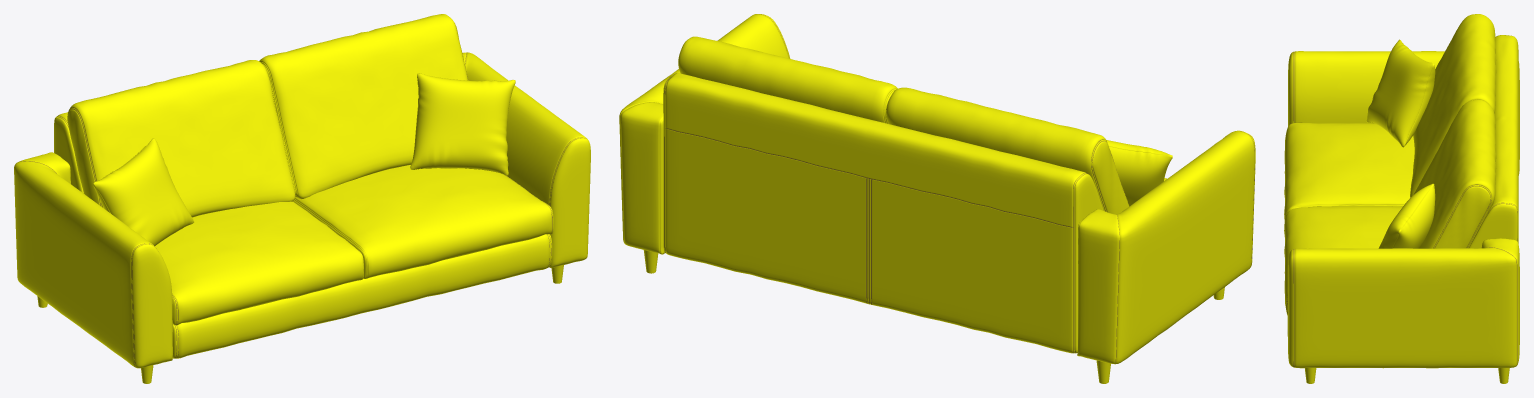
3 renders of one model, left to right at view 1: azimuth 30°, elevation 25°; view 2: azimuth 150°, elevation 25°; view 3: azimuth 270°, elevation 25°, orthographic. The views are drawn at different scales.
Visible parts, largest first — view 1: bodybeige11, arnleft11, armright11; view 2: bodybeige11, arnleft11, armright11, woodleg11; view 3: bodybeige11, armright11, arnleft11, woodleg11.
Part boxes in pixels (x1=…): bodybeige11: x1=54, y1=14, x2=553, y2=358; arnleft11: x1=14, y1=152, x2=172, y2=368; armright11: x1=462, y1=52, x2=590, y2=267; bodybeige11: x1=663, y1=36, x2=1172, y2=353; arnleft11: x1=1077, y1=130, x2=1255, y2=364; armright11: x1=619, y1=14, x2=790, y2=254; woodleg11: x1=643, y1=250, x2=1224, y2=383; bodybeige11: x1=1284, y1=14, x2=1518, y2=336; armright11: x1=1288, y1=238, x2=1519, y2=368; arnleft11: x1=1288, y1=51, x2=1519, y2=175; woodleg11: x1=1304, y1=368, x2=1509, y2=383.
Size of the model in its own units: 1.97 by 0.8468 by 0.9372.
9 materials, 6 textured.
